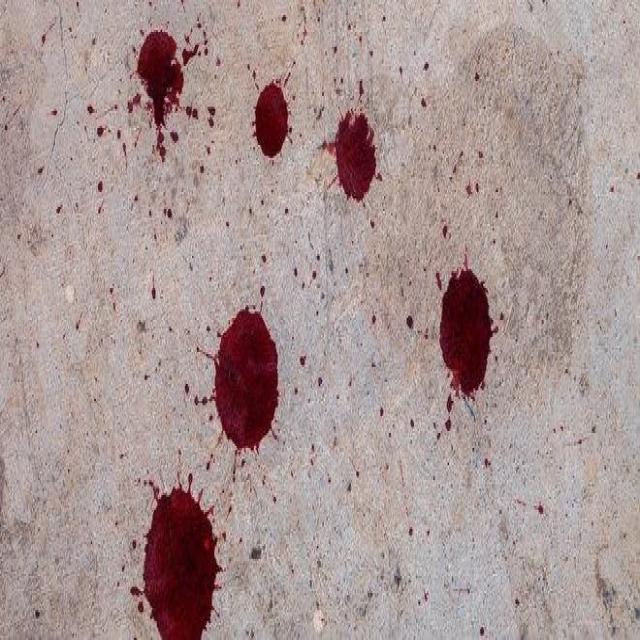flood: (142, 477, 222, 640), (211, 298, 281, 454), (439, 254, 496, 396), (128, 17, 194, 132), (334, 101, 381, 210), (253, 77, 295, 158)
